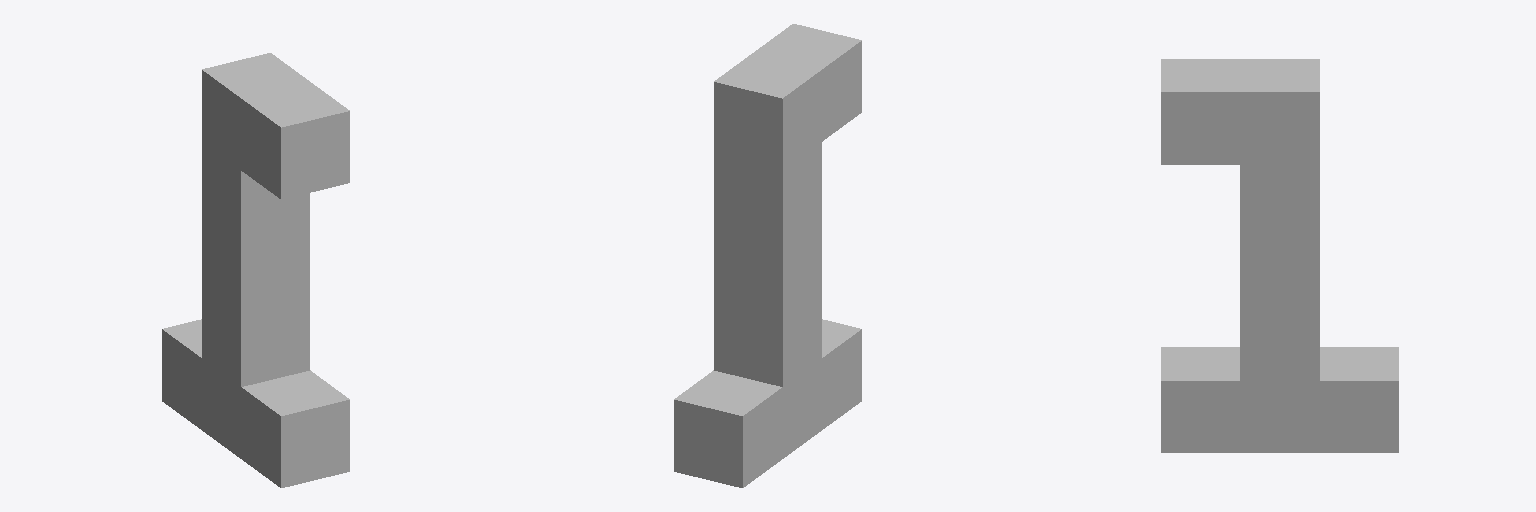
3 views of the same model, side by side, from view 1: azimuth 30°, elevation 25°; view 2: azimuth 150°, elevation 25°; view 3: azimuth 270°, elevation 25° (orthographic).
Visible parts, largest first — view 1: mesh[number redacted]; view 2: mesh[number redacted]; view 3: mesh[number redacted].
Boxes of the visible parts, x1,y1,x2,y2 form: mesh[number redacted]: [162, 53, 349, 487]; mesh[number redacted]: [674, 24, 861, 487]; mesh[number redacted]: [1161, 59, 1398, 452].
Size of the model in its own units: 0.02 by 0.1 by 0.06.